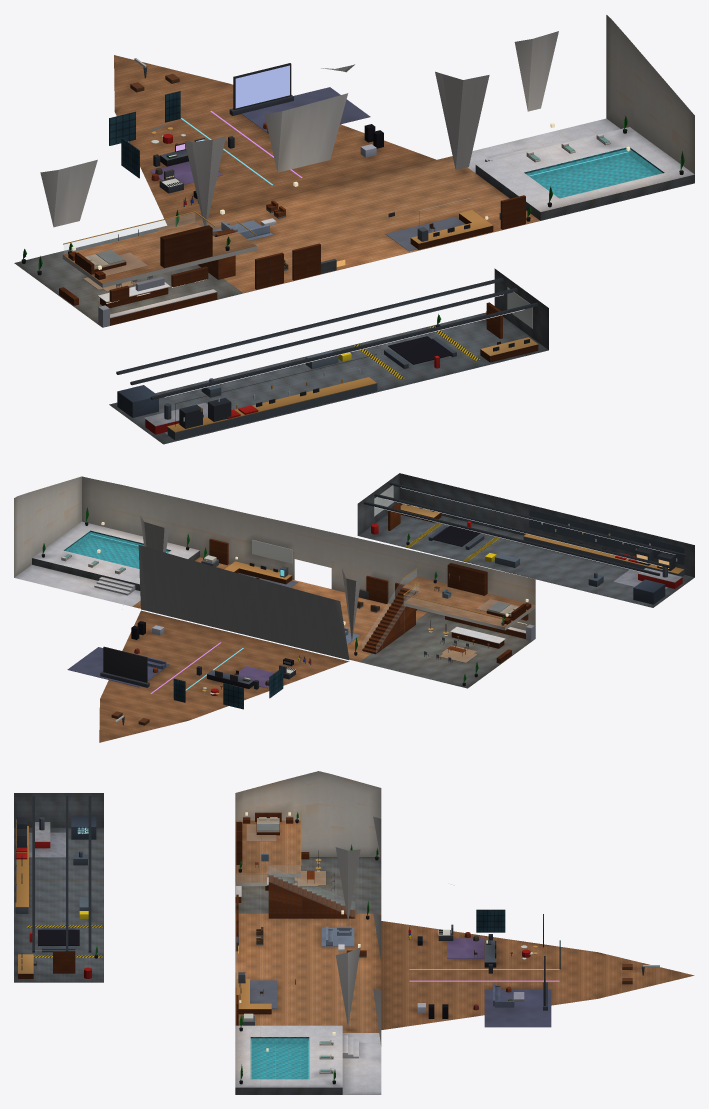
File: ariel-home-interior-512.glb
The picture shows the model from 3 angles, top to bottom: view 1: azimuth 30°, elevation 25°; view 2: azimuth 150°, elevation 25°; view 3: azimuth 270°, elevation 25°; orthographic projection. The views are drawn at different scales.
Visible parts, largest first — view 1: MansionInterior; view 2: MansionInterior; view 3: MansionInterior.
Boxes of the visible parts, left/top/right/bottom form: MansionInterior: left=14, top=15, right=694, bottom=444; MansionInterior: left=14, top=473, right=694, bottom=742; MansionInterior: left=14, top=771, right=694, bottom=1094.
Size of the model in its own units: 152 by 23.26 by 163.
3 materials, 1 textured.
